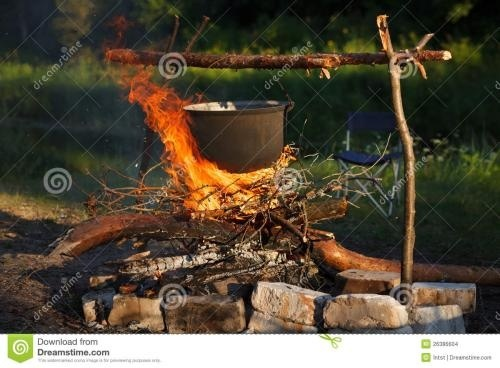fire: (118, 73, 295, 217)
